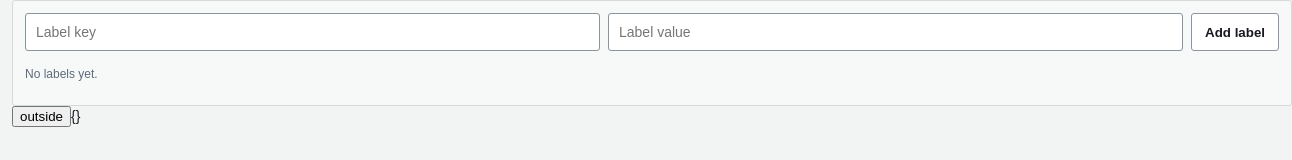
Scenario: adds and removes labels
The image size is (1292, 160).
Type "env" into the field labelled "Label key" at (312, 32), box [25,13,600,51]
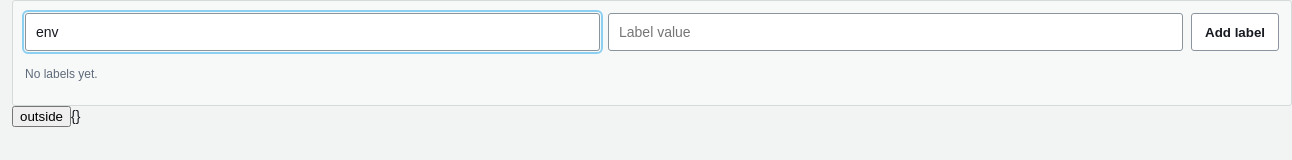
Type "prod" into the field labelled "Label value" at (896, 32), box [608,13,1183,51]
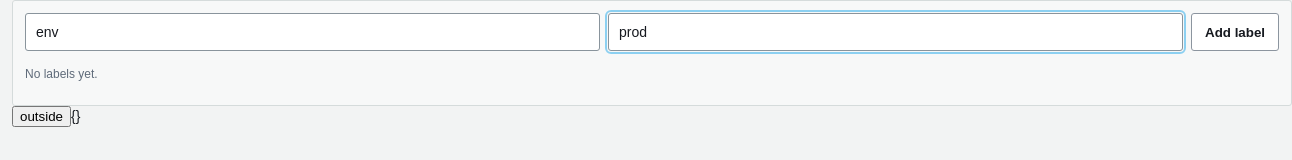
Click the button "Add label" at (1235, 32), box [1191,13,1279,51]
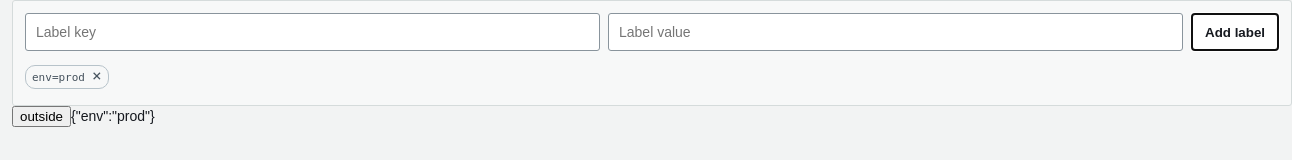
Now the text with test id "out" reads "{\"env\":\"prod\"}", box [71,108,155,124]
Now the text "env=prod" is shown, box [25,65,109,89]
Click the button named "Remove env=prod" at (97, 76), box [89,68,105,84]
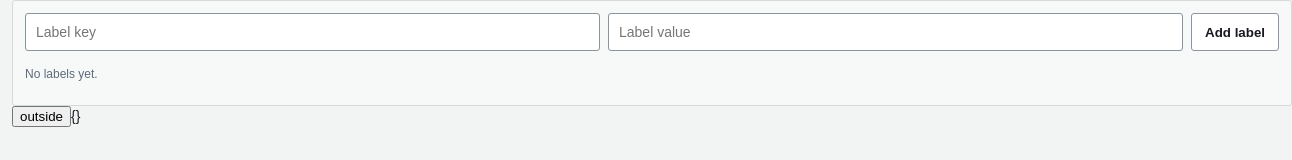
Now the text with test id "out" reads "{}", box [71,108,80,124]
